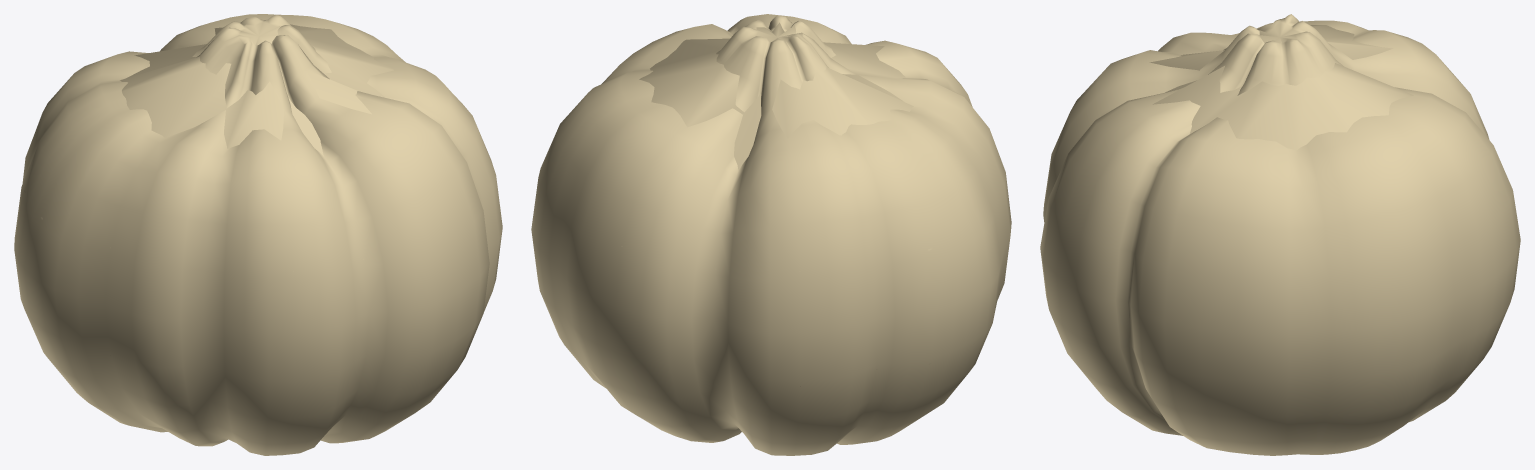
The model's file is Garlic_01.dae.
The picture shows the model from 3 angles, left to right: view 1: azimuth 30°, elevation 25°; view 2: azimuth 150°, elevation 25°; view 3: azimuth 270°, elevation 25°; orthographic projection.
Parts seen in each view (by area): view 1: Garlic_01_LOD0, Garlic_013; view 2: Garlic_01_LOD0, Garlic_013; view 3: Garlic_01_LOD0, Garlic_013.
Boxes of the visible parts, bbox=[...] form: Garlic_01_LOD0: bbox=[14, 14, 502, 455]; Garlic_013: bbox=[24, 24, 393, 355]; Garlic_01_LOD0: bbox=[531, 14, 1011, 455]; Garlic_013: bbox=[621, 22, 995, 386]; Garlic_01_LOD0: bbox=[1040, 14, 1520, 455]; Garlic_013: bbox=[1149, 25, 1507, 376].
Size of what is drawn, in the model's own units: 4.09 by 3.97 by 3.53.
